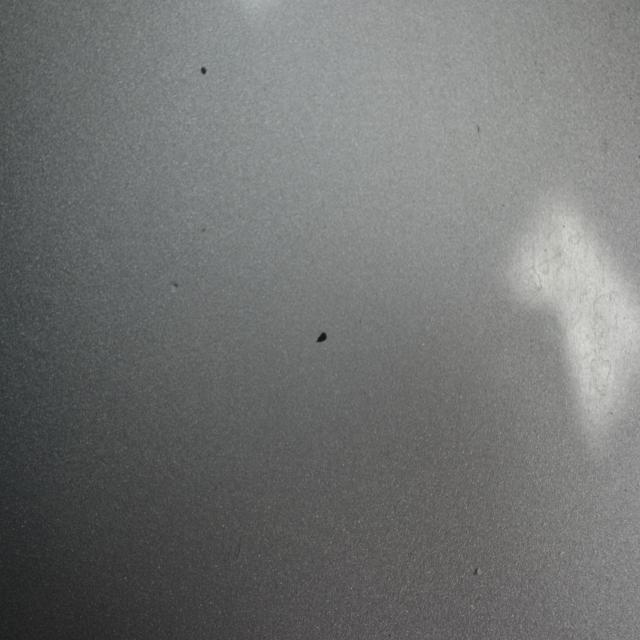dirt: (169, 278, 180, 296), (315, 329, 327, 345), (200, 221, 207, 236), (199, 63, 206, 76), (475, 120, 480, 134)
water marks: (546, 232, 604, 332), (514, 256, 545, 308), (592, 288, 620, 344), (584, 350, 615, 400)
